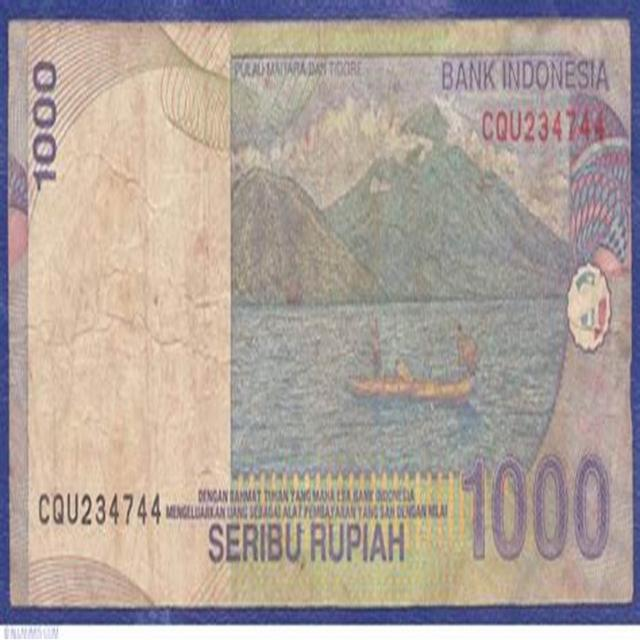seribu rupiah: (9, 20, 632, 606)
